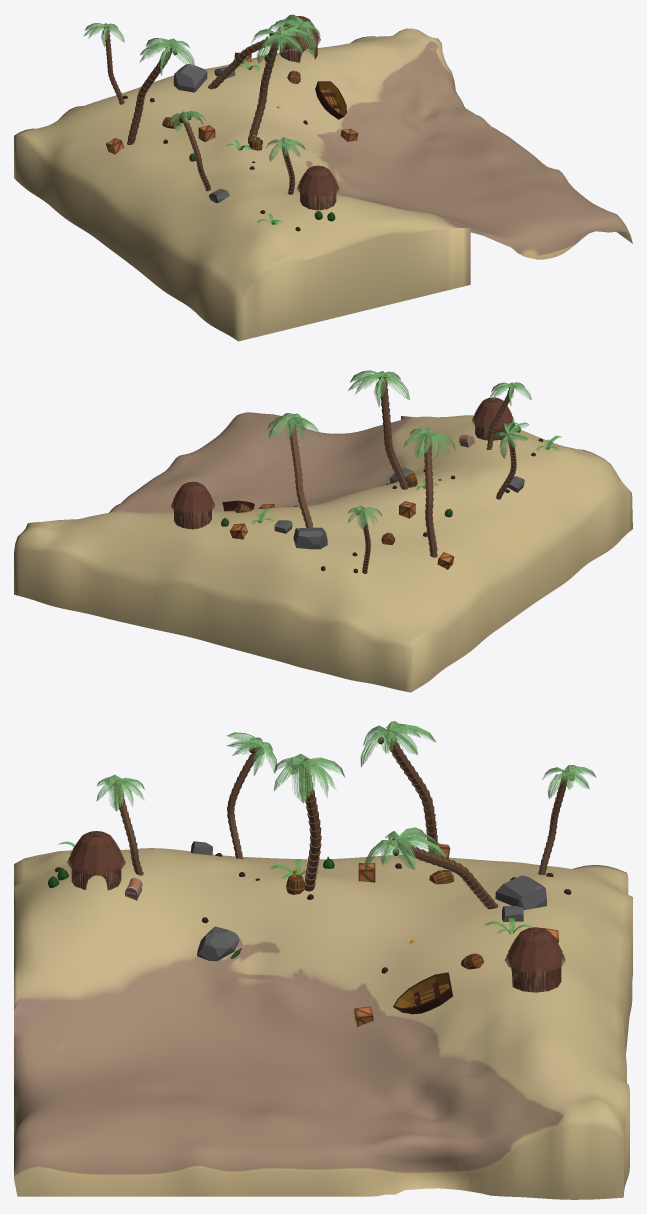
3 views of the same model, one above another, from view 1: azimuth 30°, elevation 25°; view 2: azimuth 150°, elevation 25°; view 3: azimuth 270°, elevation 25° (orthographic). The views are drawn at different scales.
Visible parts, largest first — view 1: spiaggia, Cylinder.002, Cylinder.003, palma 2.002, palma 2.003, Cube.001, sasso 2, palma 2.004, palma 2.006; view 2: spiaggia, Cylinder.003, Cylinder.002, palma 2.003, palma 2.002, palma 2.004, sasso 2; view 3: spiaggia, Cylinder.003, Cylinder.002, Cube.001, palma 2.002, palma 2.003, sasso 2, palma 2.004, sass05.001, palma 2.006, palma 2.005, palma 2 (+1 smaller).
Part boxes in pixels (bbox=[...]): spiaggia: bbox=[14, 28, 632, 341]; Cylinder.002: bbox=[297, 165, 339, 210]; Cylinder.003: bbox=[279, 16, 320, 62]; palma 2.002: bbox=[248, 32, 279, 143]; palma 2.003: bbox=[127, 44, 172, 144]; Cube.001: bbox=[315, 81, 346, 119]; sasso 2: bbox=[173, 64, 207, 92]; palma 2.004: bbox=[208, 23, 300, 89]; palma 2.006: bbox=[180, 115, 210, 191]; spiaggia: bbox=[14, 412, 632, 692]; Cylinder.003: bbox=[171, 481, 214, 529]; Cylinder.002: bbox=[471, 397, 514, 440]; palma 2.003: bbox=[424, 432, 437, 557]; palma 2.002: bbox=[379, 375, 408, 489]; palma 2.004: bbox=[288, 419, 312, 527]; sasso 2: bbox=[293, 527, 327, 549]; spiaggia: bbox=[14, 848, 632, 1199]; Cylinder.003: bbox=[504, 927, 565, 992]; Cylinder.002: bbox=[67, 831, 125, 890]; Cube.001: bbox=[393, 972, 452, 1014]; palma 2.002: bbox=[302, 758, 321, 891]; palma 2.003: bbox=[385, 730, 439, 855]; sasso 2: bbox=[495, 875, 546, 909]; palma 2.004: bbox=[394, 839, 498, 909]; sass05.001: bbox=[197, 926, 239, 961]; palma 2.006: bbox=[227, 746, 263, 859]; palma 2.005: bbox=[538, 770, 567, 874]; palma 2: bbox=[116, 780, 143, 875].
Bounding box in the file's own units: 41.19 × 19.21 × 39.51.
9 materials, 9 textured.
